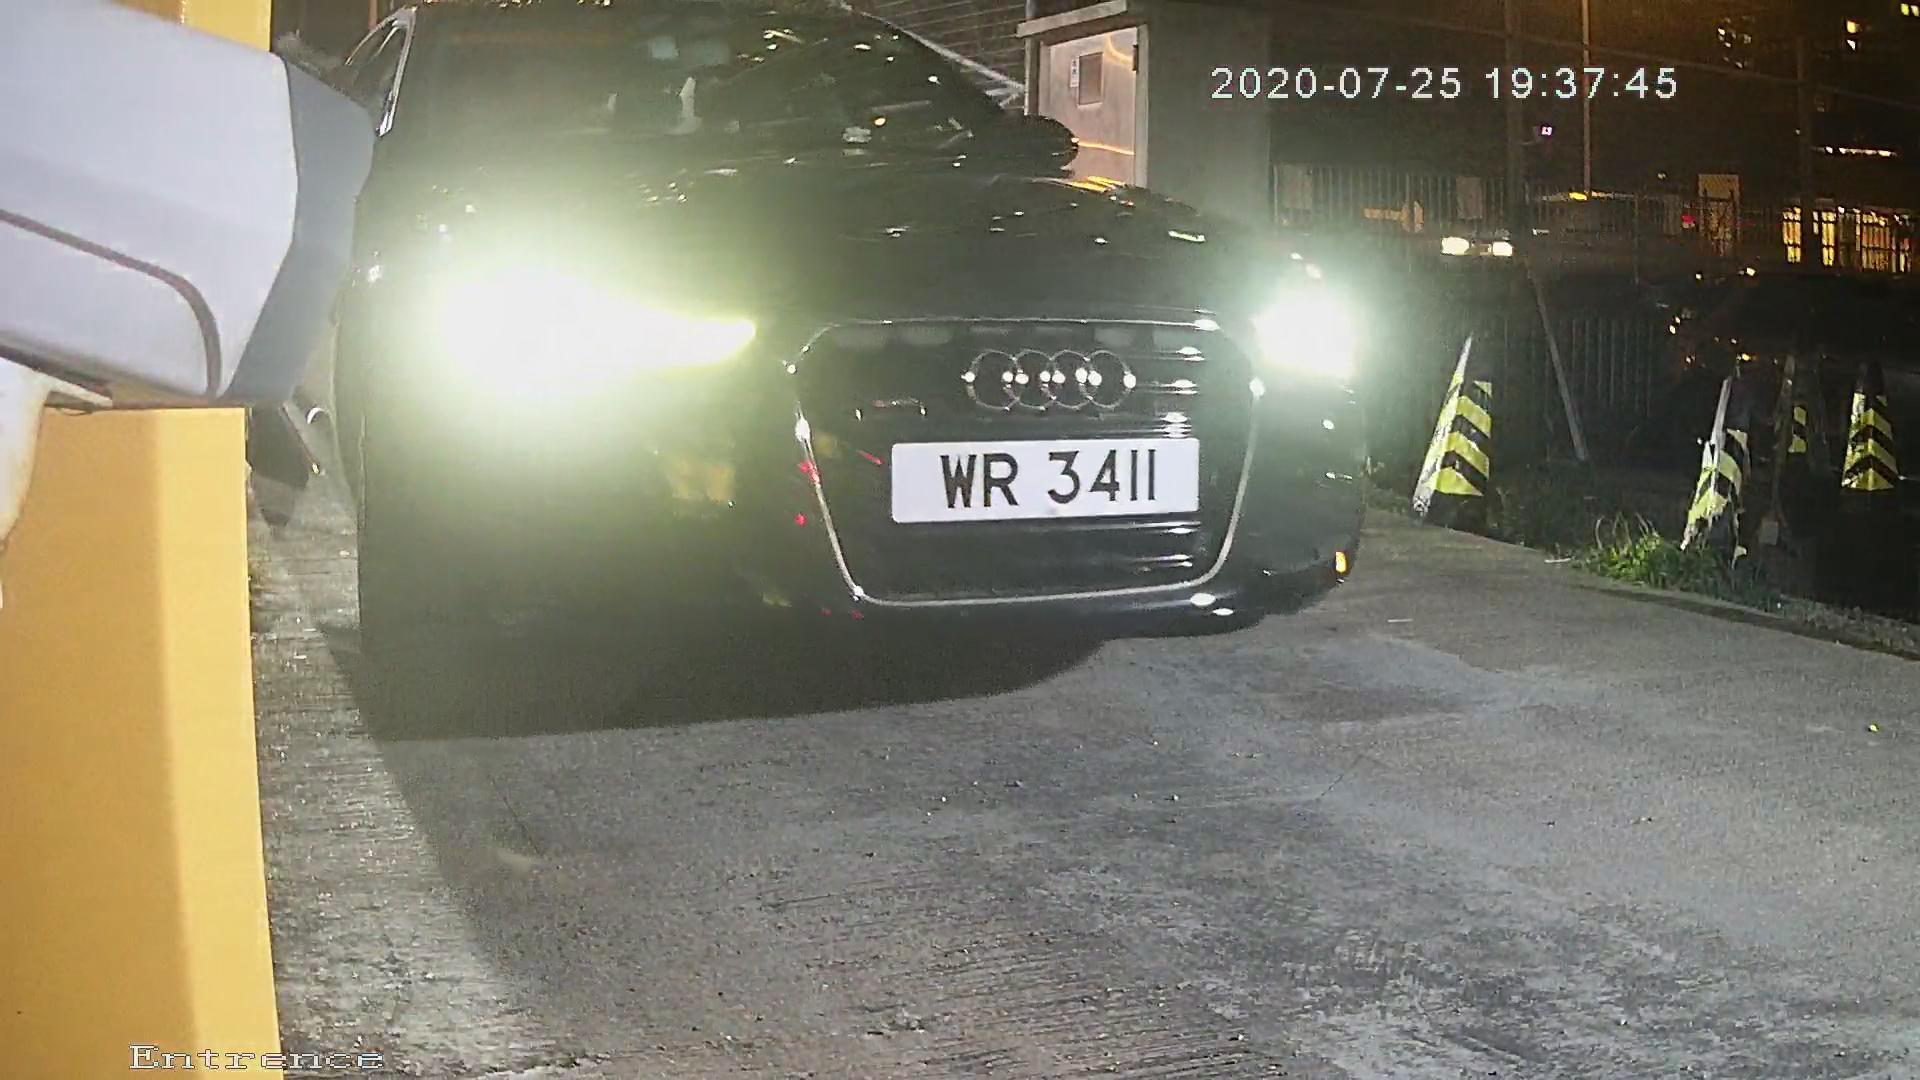privatecar: (284, 5, 1491, 709)
